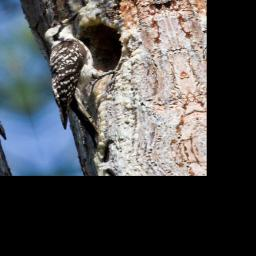Woodpecker: (24, 5, 138, 157)
